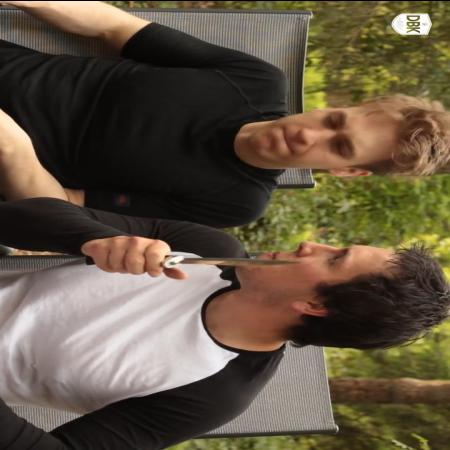long weapon: (91, 242, 308, 282)
